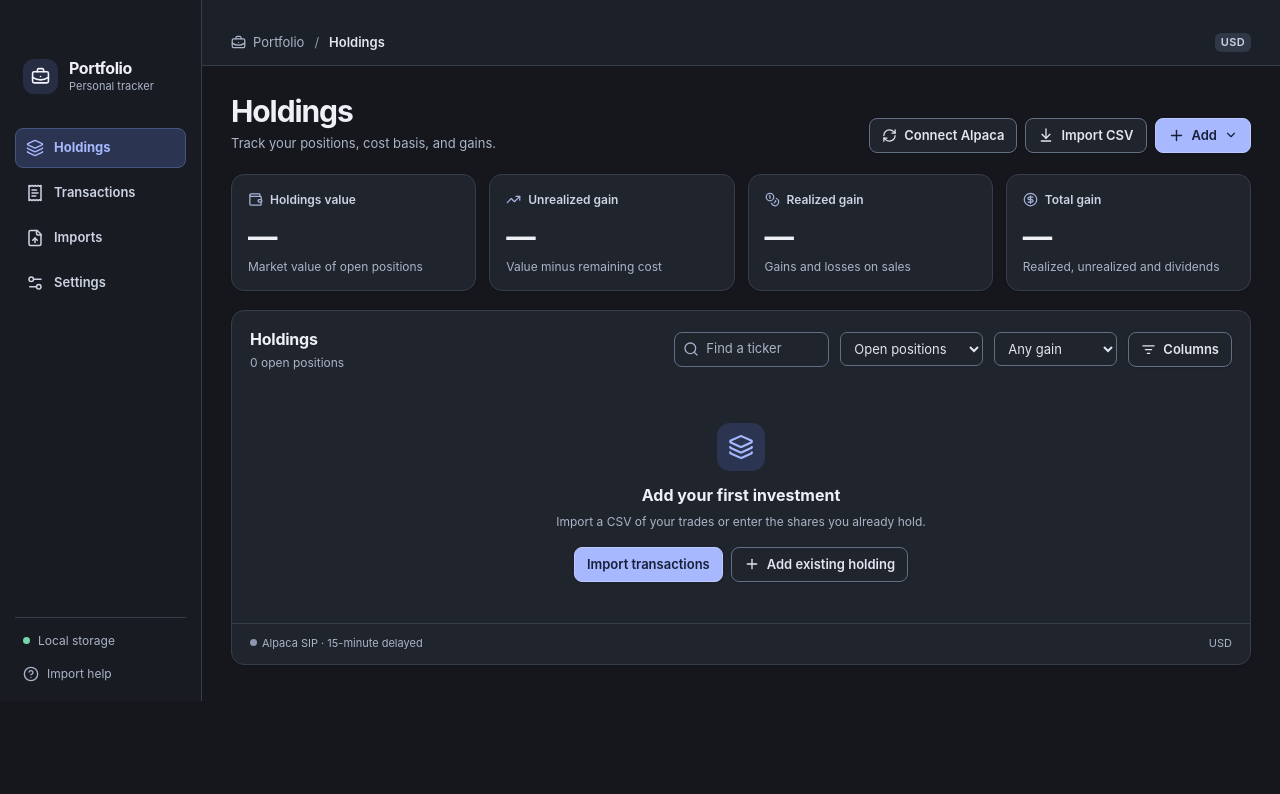
Test: desktop interactions › defaults to Light, restores Dark, and follows device changes only in System
The width and height of the screenshot is (1280, 794).
Earlier steps of the test are not shown.
Later steps or results of the test are not shown.
Click the button "Settings".
click(100, 282)  # box [15, 262, 186, 302]
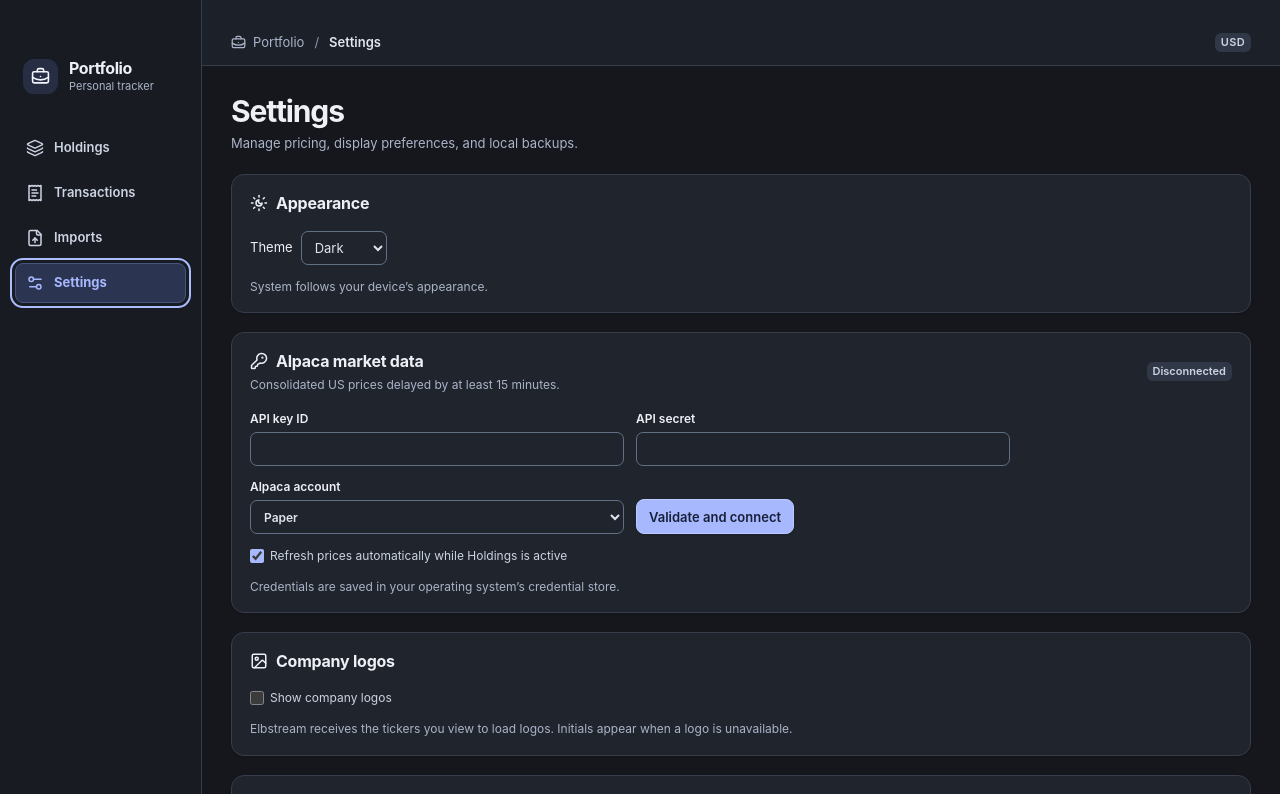
Expected: the dropdown labelled "Theme" shows "Dark", [301, 231, 387, 265]
